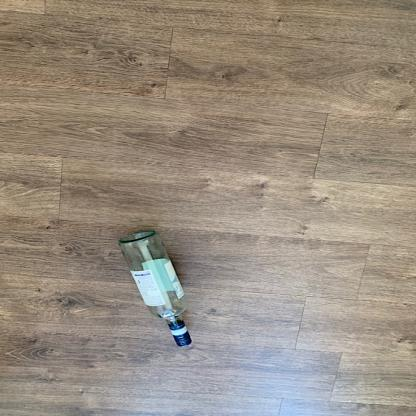trash: (119, 227, 200, 352)
